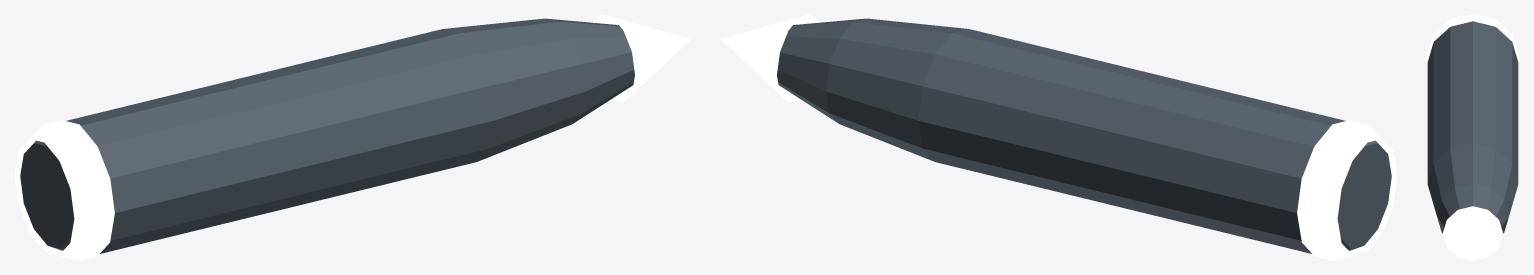
The model's file is f_japan.glb.
3 renders of one model, left to right at view 1: azimuth 30°, elevation 25°; view 2: azimuth 150°, elevation 25°; view 3: azimuth 270°, elevation 25°, orthographic. The views are drawn at different scales.
Visible parts, largest first — view 1: Projectile / tapered copper-alloy jacket.054, Projectile / rear tracer compound.054, Projectile / luminous nose.054; view 2: Projectile / tapered copper-alloy jacket.054, Projectile / rear tracer compound.054, Projectile / luminous nose.054; view 3: Projectile / tapered copper-alloy jacket.054, Projectile / luminous nose.054, Projectile / rear tracer compound.054.
Boxes of the visible parts, box(x1,y1,x2,y2) form: Projectile / tapered copper-alloy jacket.054: box(20, 18, 634, 253); Projectile / rear tracer compound.054: box(14, 120, 114, 260); Projectile / luminous nose.054: box(593, 14, 690, 102); Projectile / tapered copper-alloy jacket.054: box(777, 18, 1391, 253); Projectile / rear tracer compound.054: box(1297, 120, 1397, 260); Projectile / luminous nose.054: box(721, 14, 818, 102); Projectile / tapered copper-alloy jacket.054: box(1427, 21, 1518, 233); Projectile / luminous nose.054: box(1442, 206, 1503, 260); Projectile / rear tracer compound.054: box(1426, 14, 1519, 65).
Size of the model in its own units: 0.424 by 0.08 by 0.08.
